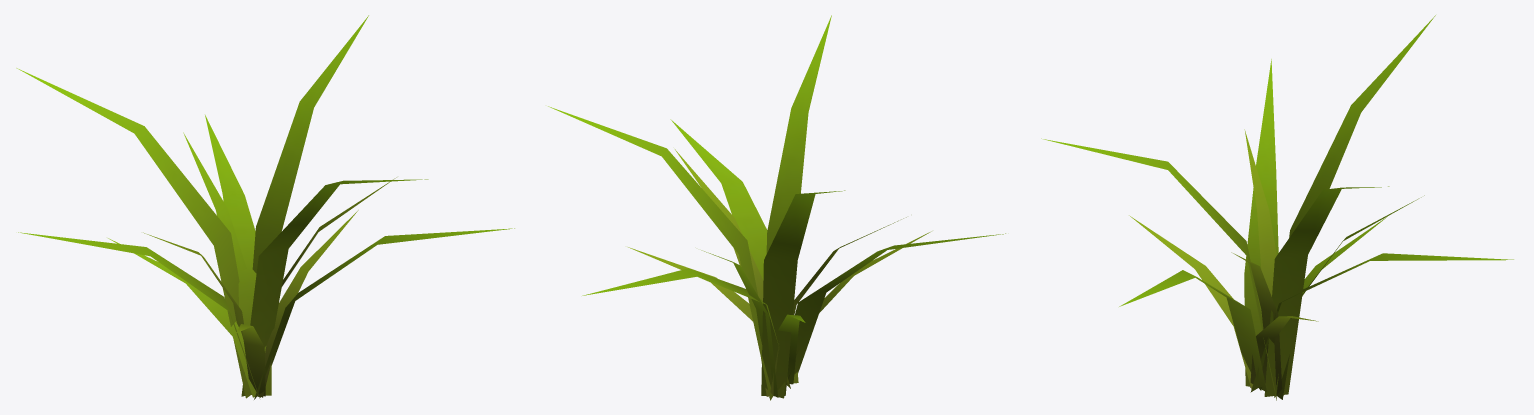
Rendered from Bush_Grassy_B.fbx.
3 views of the same model, side by side, from view 1: azimuth 30°, elevation 25°; view 2: azimuth 150°, elevation 25°; view 3: azimuth 270°, elevation 25° (orthographic).
Visible parts, largest first — view 1: Bush_Grassy_B; view 2: Bush_Grassy_B; view 3: Bush_Grassy_B.
Boxes of the visible parts, bbox=[...] form: Bush_Grassy_B: bbox=[16, 15, 514, 399]; Bush_Grassy_B: bbox=[548, 15, 1005, 400]; Bush_Grassy_B: bbox=[1041, 15, 1513, 400].
Bounding box in the file's own units: 117 × 115 × 80.8.
Materials: 1 (1 with a texture image).
